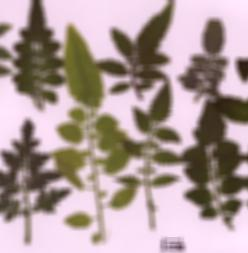Tomato leaf: (63, 22, 110, 106), (54, 114, 94, 150), (60, 206, 99, 236), (57, 159, 93, 191), (56, 143, 91, 170), (108, 182, 140, 211), (108, 142, 134, 176), (98, 124, 130, 147), (93, 110, 124, 133)
